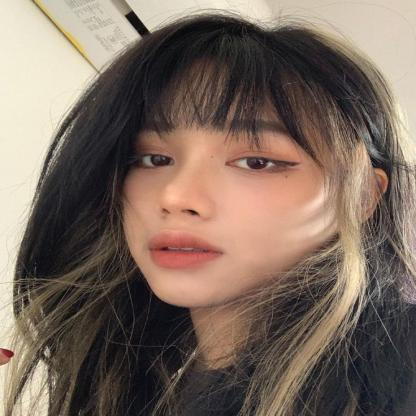person: (118, 26, 385, 317)
